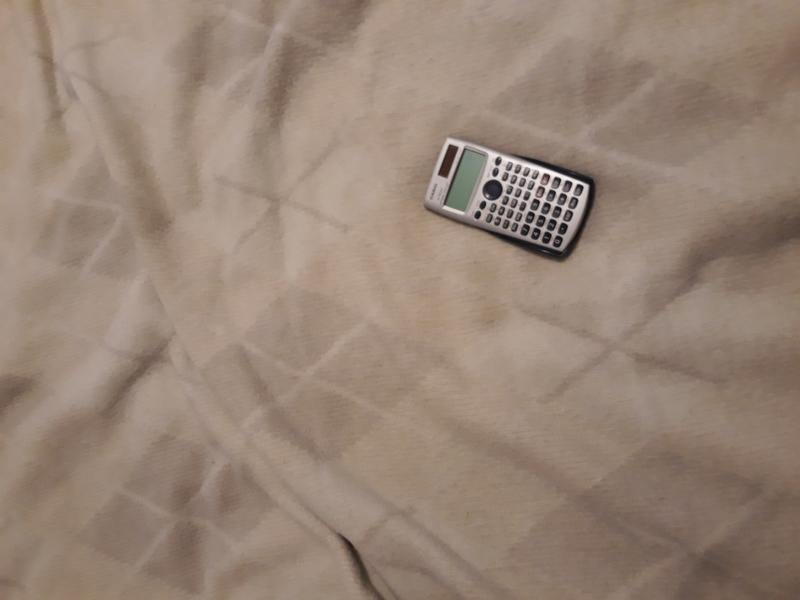CASIO_fx_991ES: (406, 107, 632, 276)
